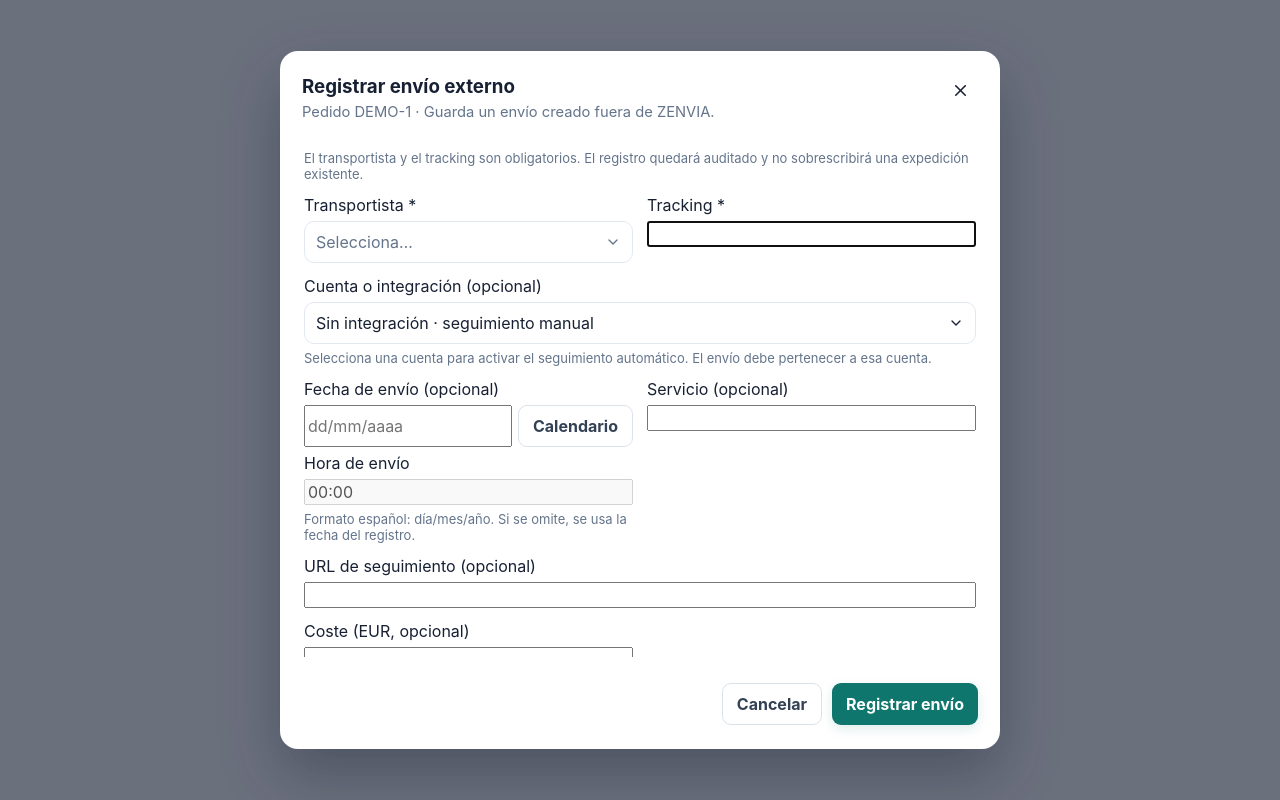
Test: rejects impossible Spanish dates without registering
Click the dropdown named "Transportista *".
click(364, 242)  # box x1=304 y1=221 x2=633 y2=263
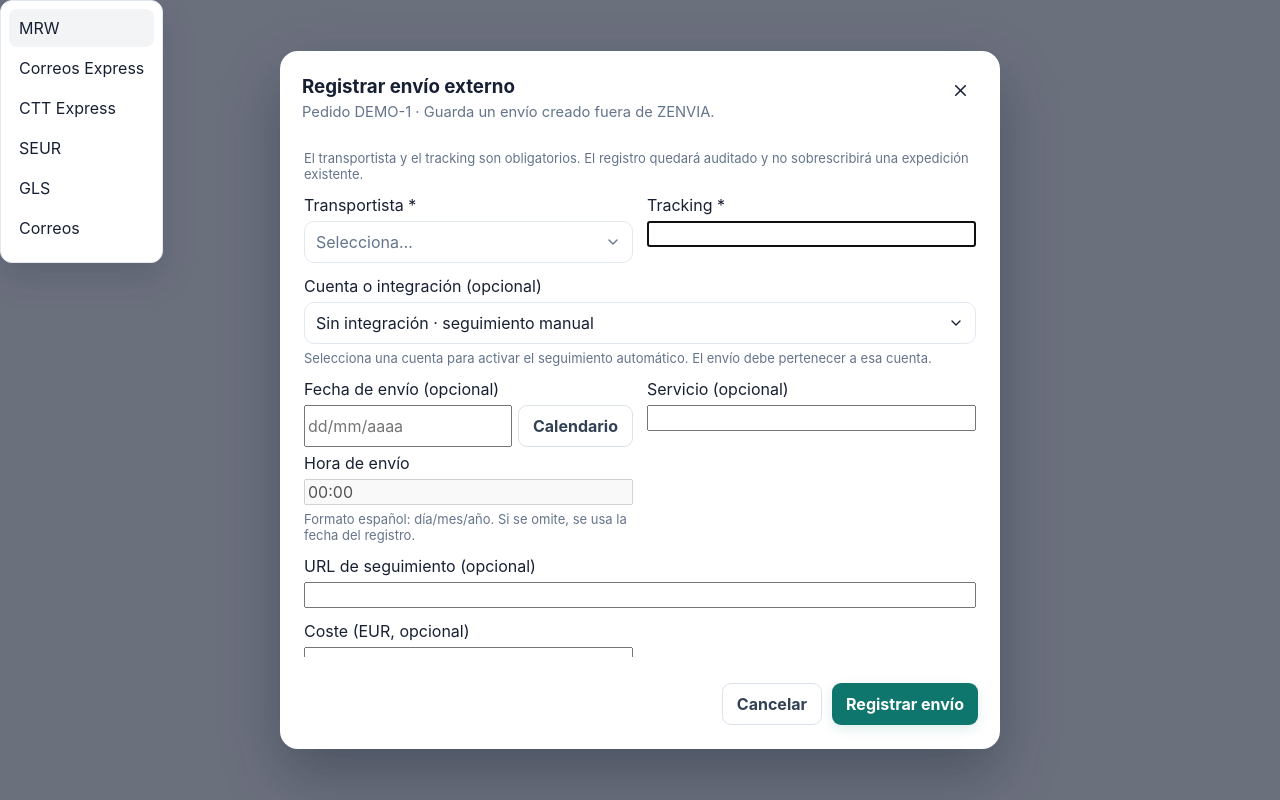
Click the option "MRW".
click(82, 28)  # box x1=9 y1=9 x2=154 y2=47
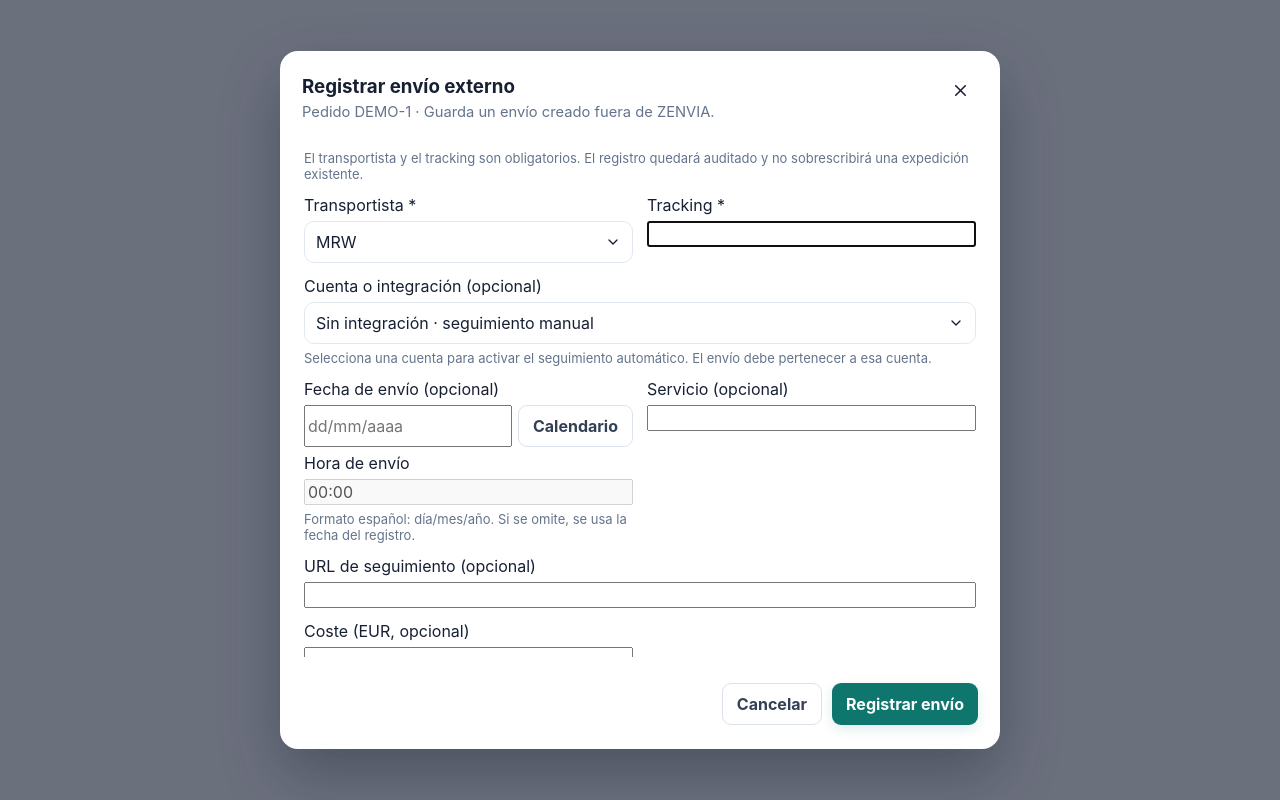
Type "FULL-123" into the field labelled "Tracking *".
click(812, 234); type("FULL-123")  # box x1=647 y1=221 x2=976 y2=247
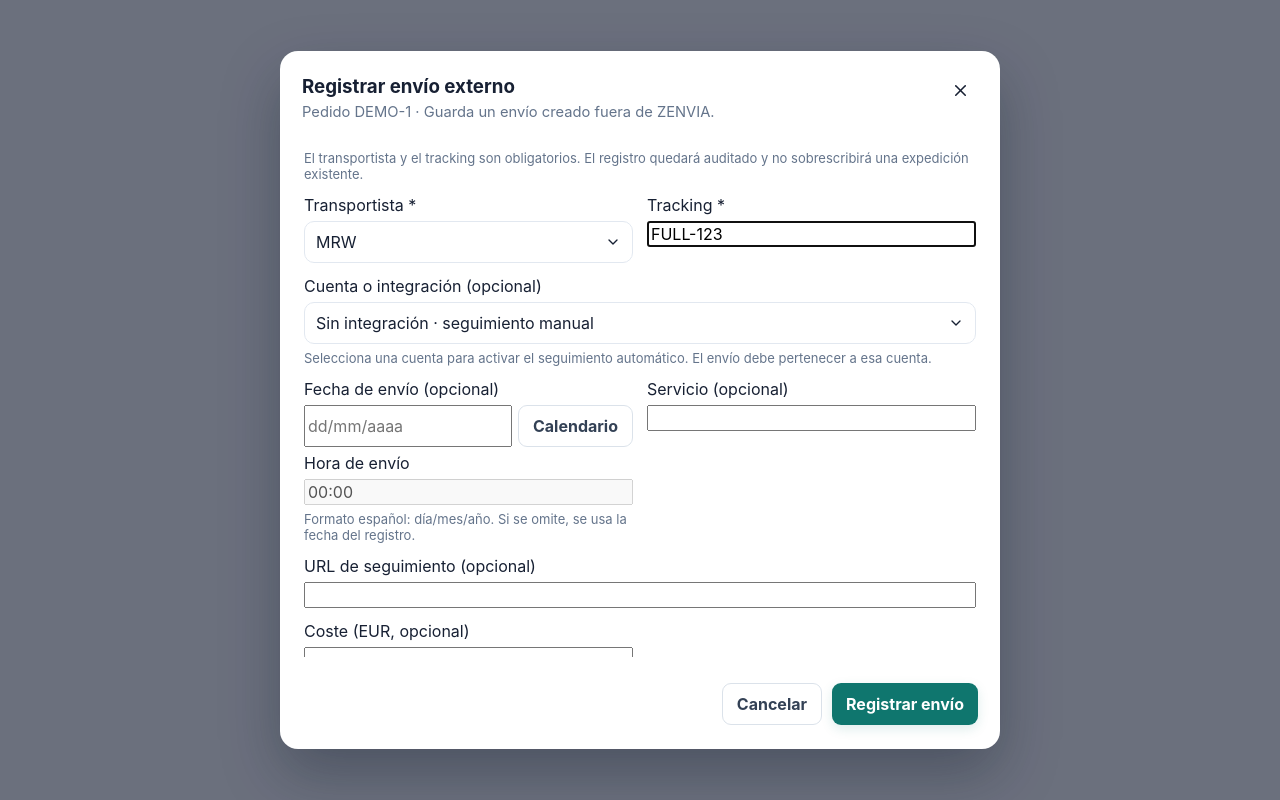
Type "31/02/2026" into the field labelled "Fecha de envío (opcional)".
click(408, 426); type("31/02/2026")  # box x1=304 y1=405 x2=512 y2=447
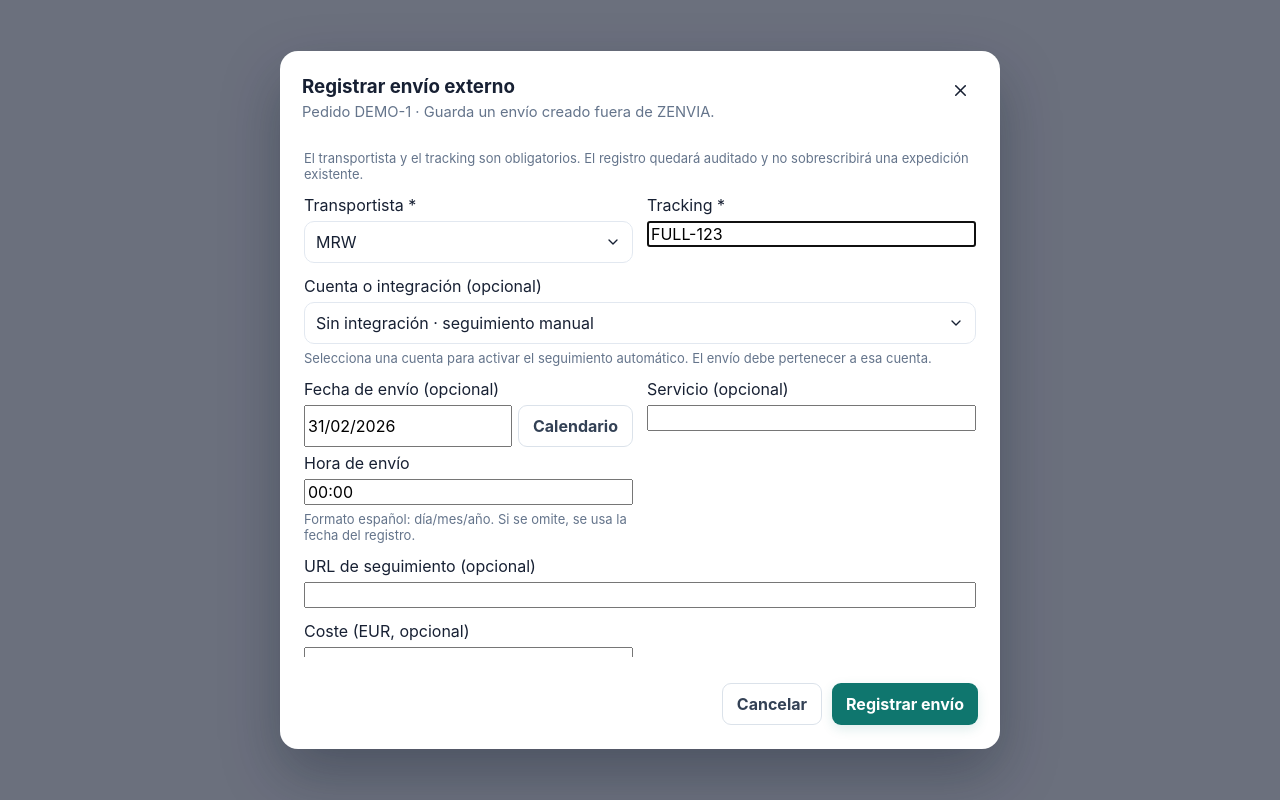
Click the button "Registrar envío".
click(905, 704)  # box x1=832 y1=683 x2=978 y2=725
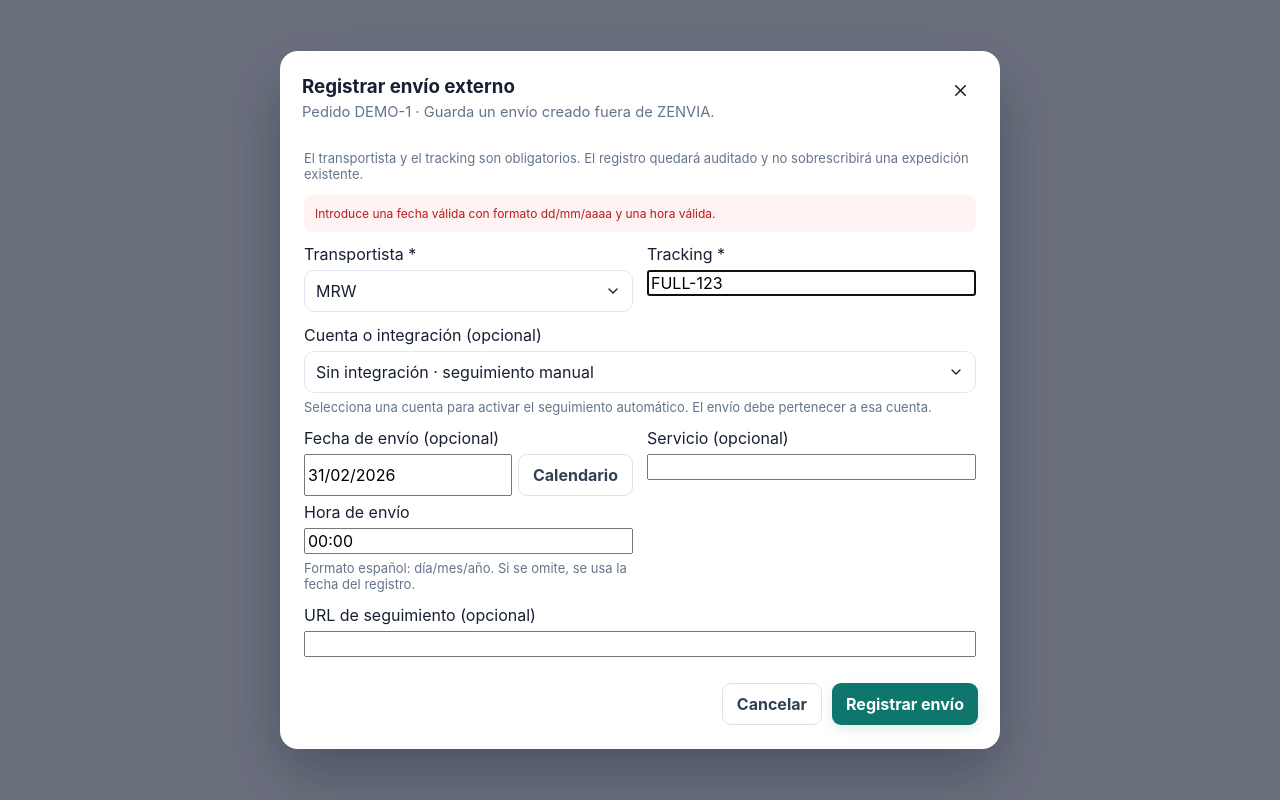
Now the message shows "fecha válida", box x1=315 y1=206 x2=716 y2=221
